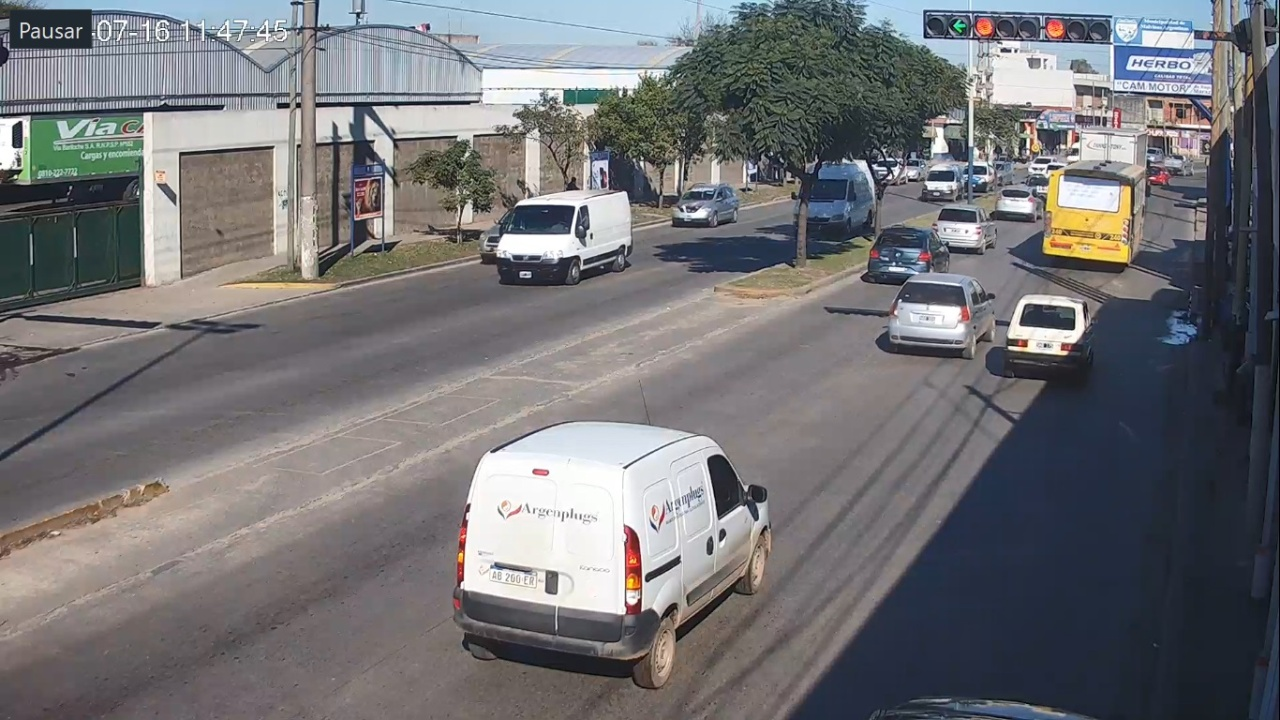bus: (1041, 160, 1151, 269)
car: (452, 420, 773, 690), (887, 272, 996, 359), (1003, 294, 1094, 378)
front car: (497, 190, 633, 285)
traffic light: (974, 14, 1111, 39)
